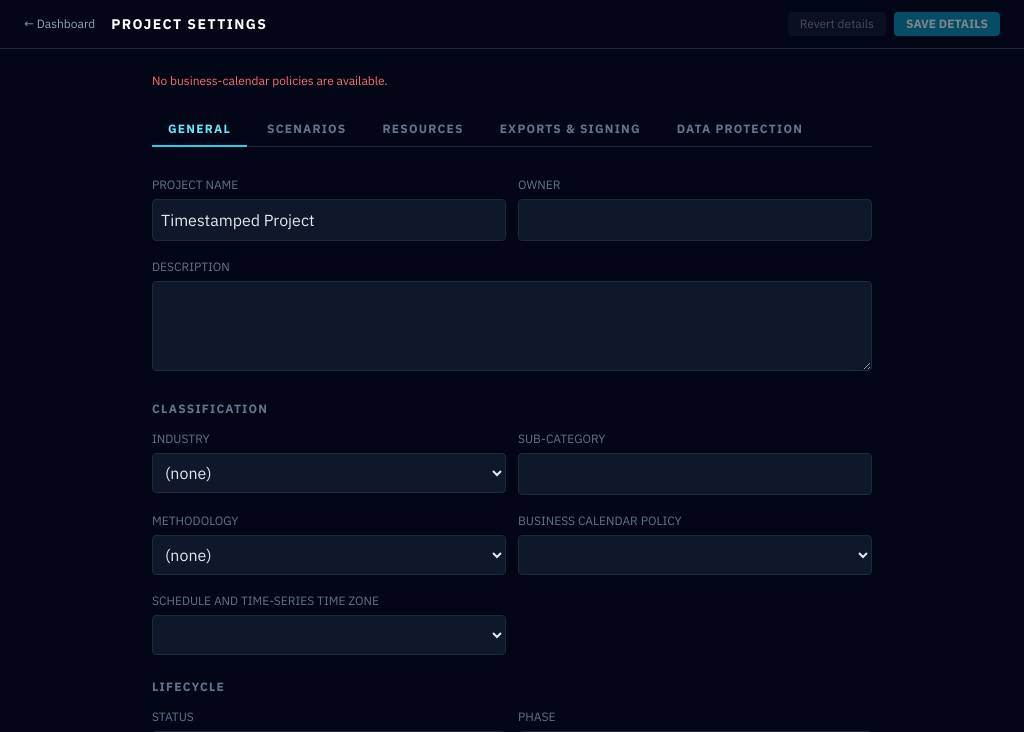
Test: tab wiring › preserves a Scenarios-tab draft across a tab switch away and back
Expected: the tab "General" is shown, x1=152 y1=113 x2=247 y2=147
Step 1. Click the tab "Scenarios" → (307, 130), box x1=251 y1=113 x2=363 y2=147
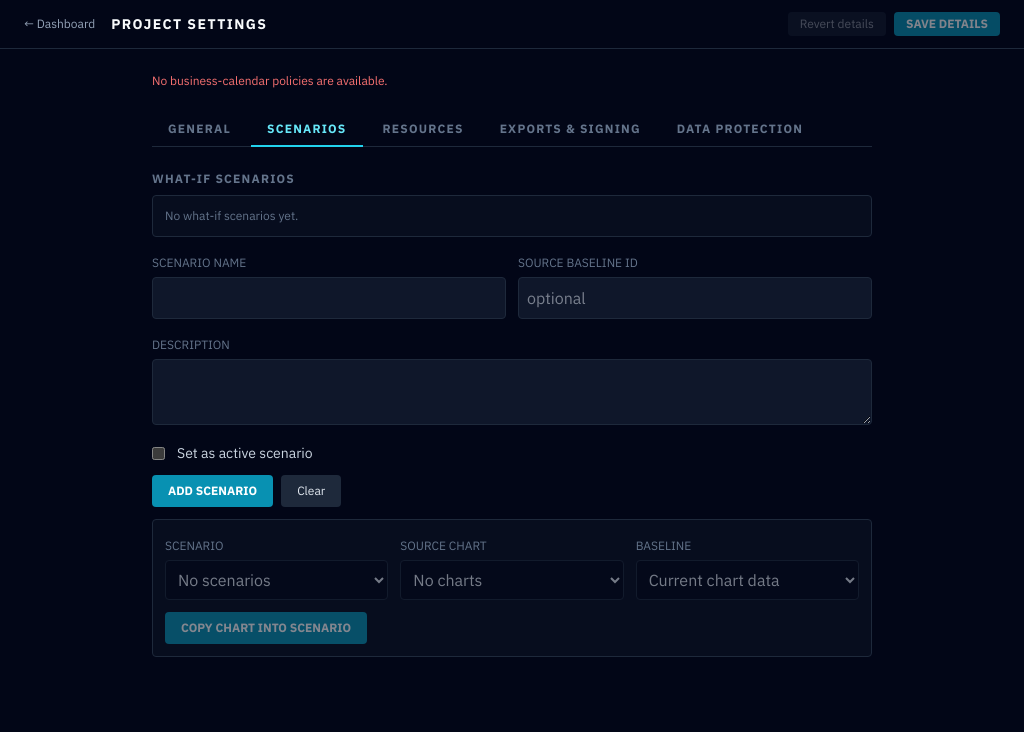
Step 2. Type "Aggressive timeline" into the field labelled "Scenario name" → (329, 298), box x1=152 y1=277 x2=506 y2=319
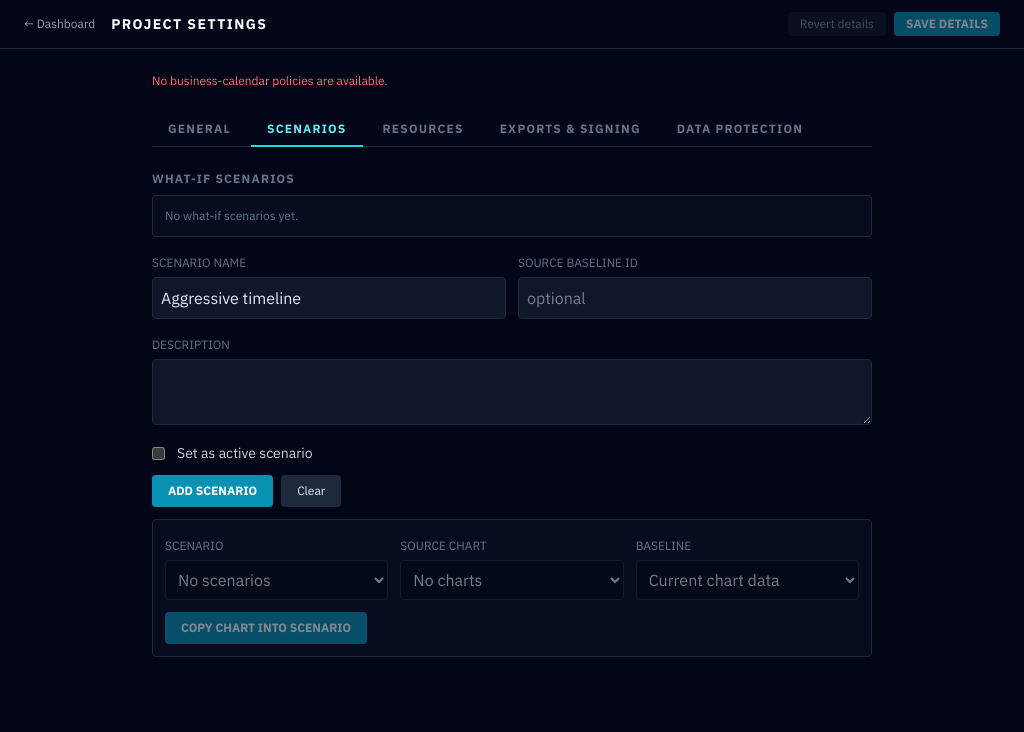
Step 3. Click the tab "Resources" → (423, 130), box x1=366 y1=113 x2=480 y2=147
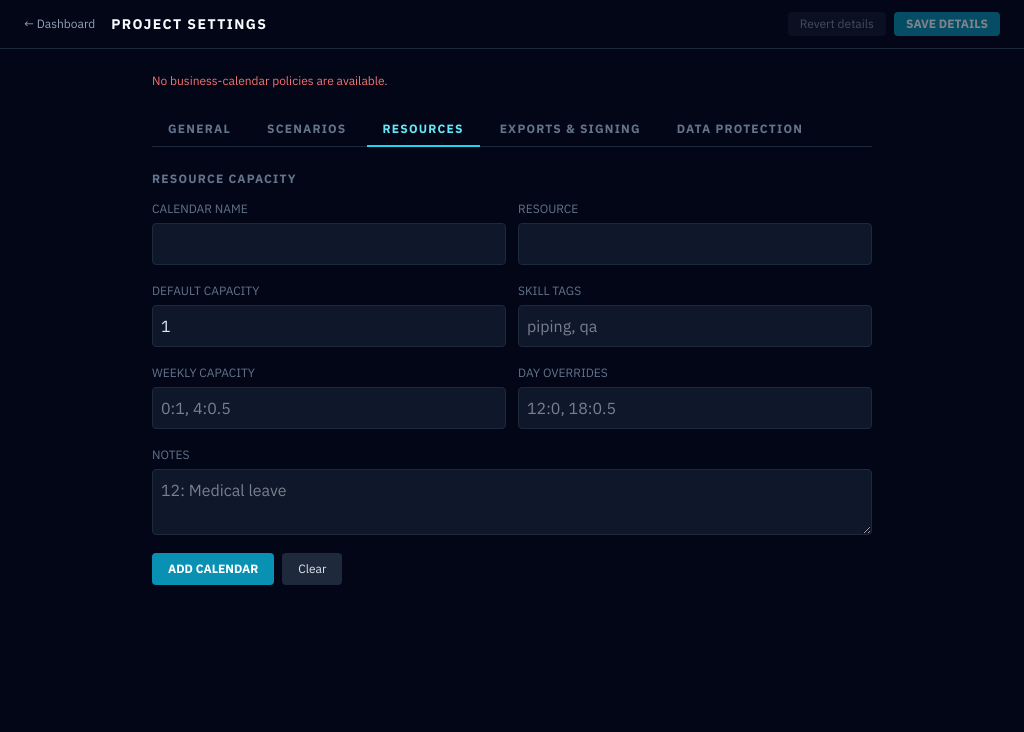
Step 4. Click the tab "Scenarios" → (307, 130), box x1=251 y1=113 x2=363 y2=147
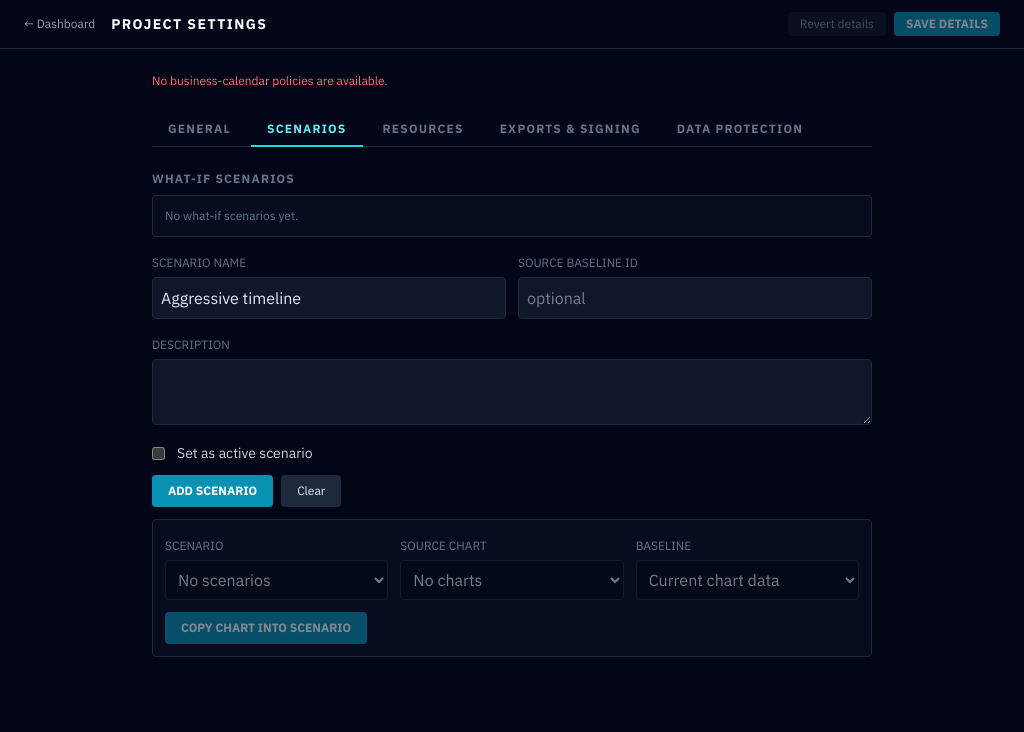
Result: the field labelled "Scenario name" holds "Aggressive timeline" at x1=152 y1=277 x2=506 y2=319
